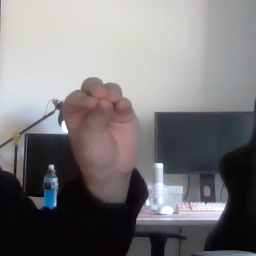M: (58, 74, 142, 175)
